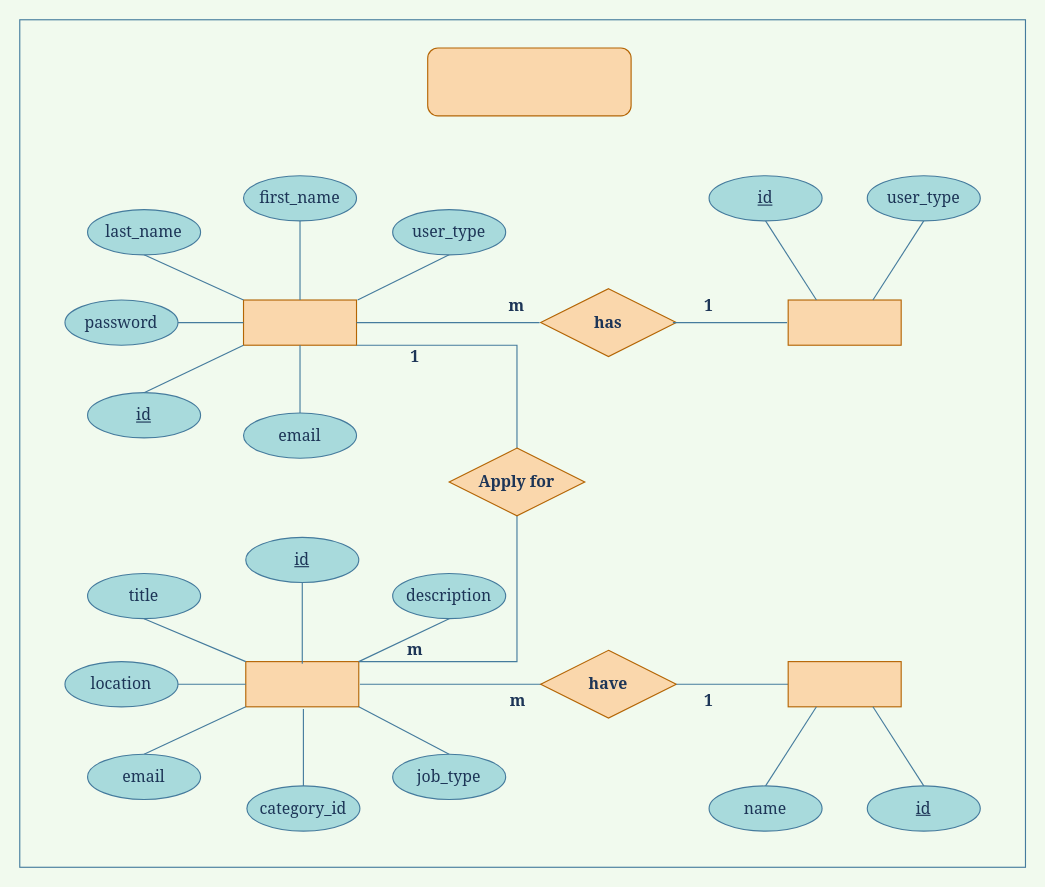
Some shapes in this 1045 by 887 pixel diagram are drawn without their labels. The centre of each missing label's shape, as x and y in pixels:
"CATEGORY" goes at point (844, 683).
"E-R DIAGRAM" goes at point (529, 81).
"JOBS" goes at point (302, 683).
"TYPE" goes at point (844, 322).
"USER" goes at point (299, 322).
